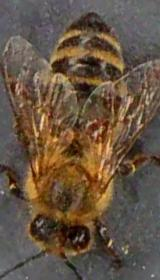varroa_mite: (76, 115, 116, 143)
